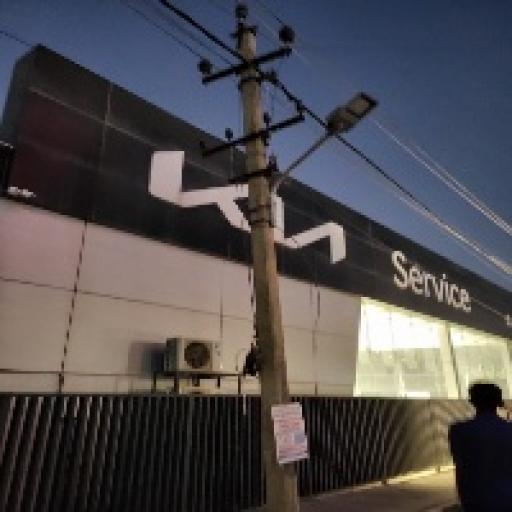Not Working: (314, 85, 378, 141)
